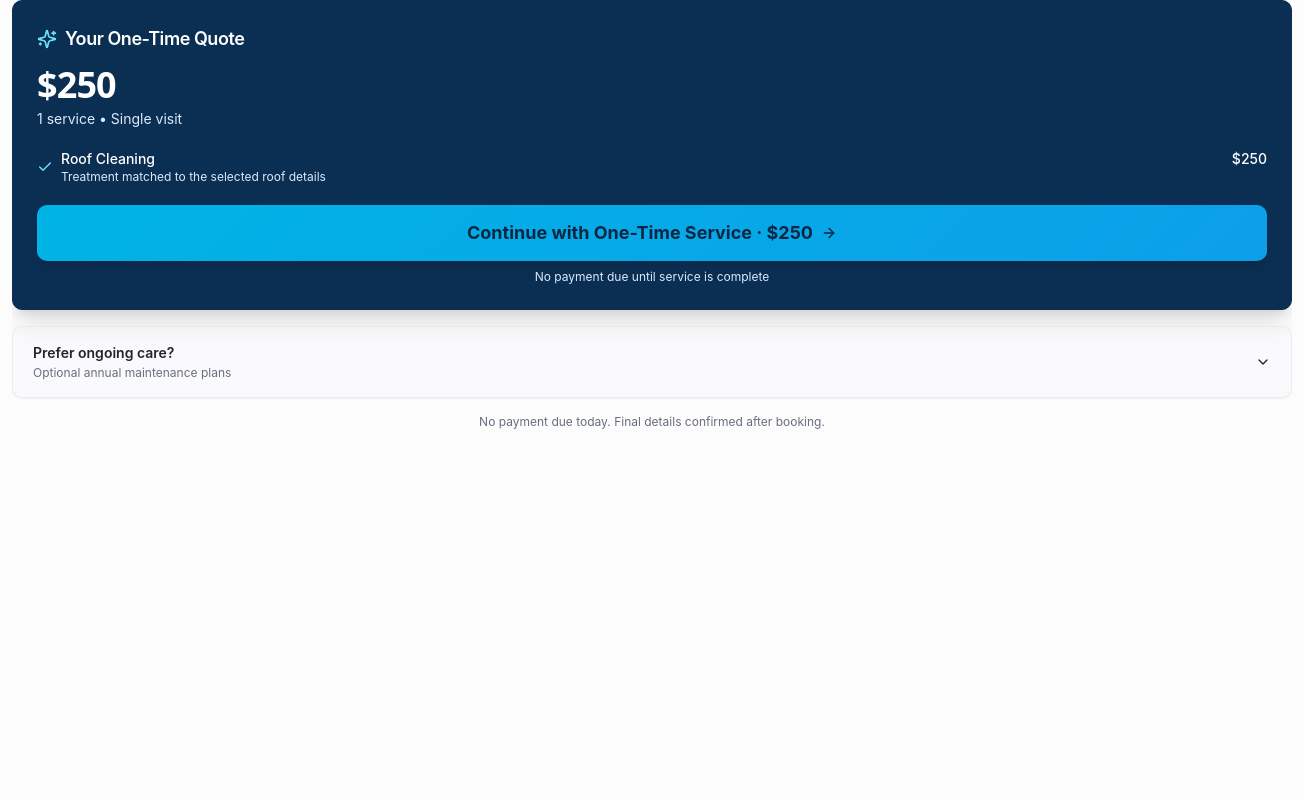
it: PlanUpsellCard — fail-closed plan behavior › never renders $0/year or $0/month when the server plan is unavailable
This screenshot has width=1304, height=800.
Step 1. Click the button with test id "plans-toggle" → (104, 352), box 13,327 -> 1291,397
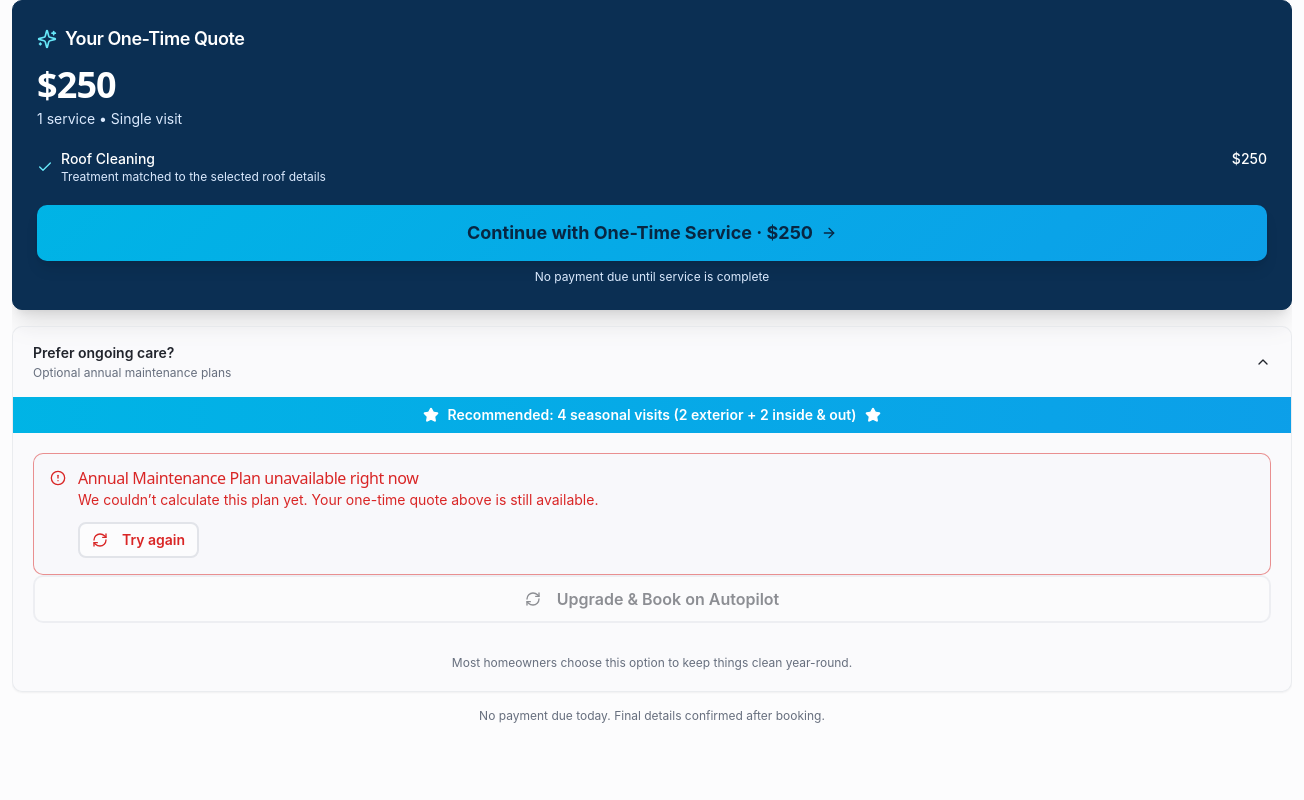
Now the message with test id "plan-unavailable" is shown, box 33,453 -> 1271,575
Now the button with test id "plan-upgrade-cta" is disabled, box 33,575 -> 1271,623
